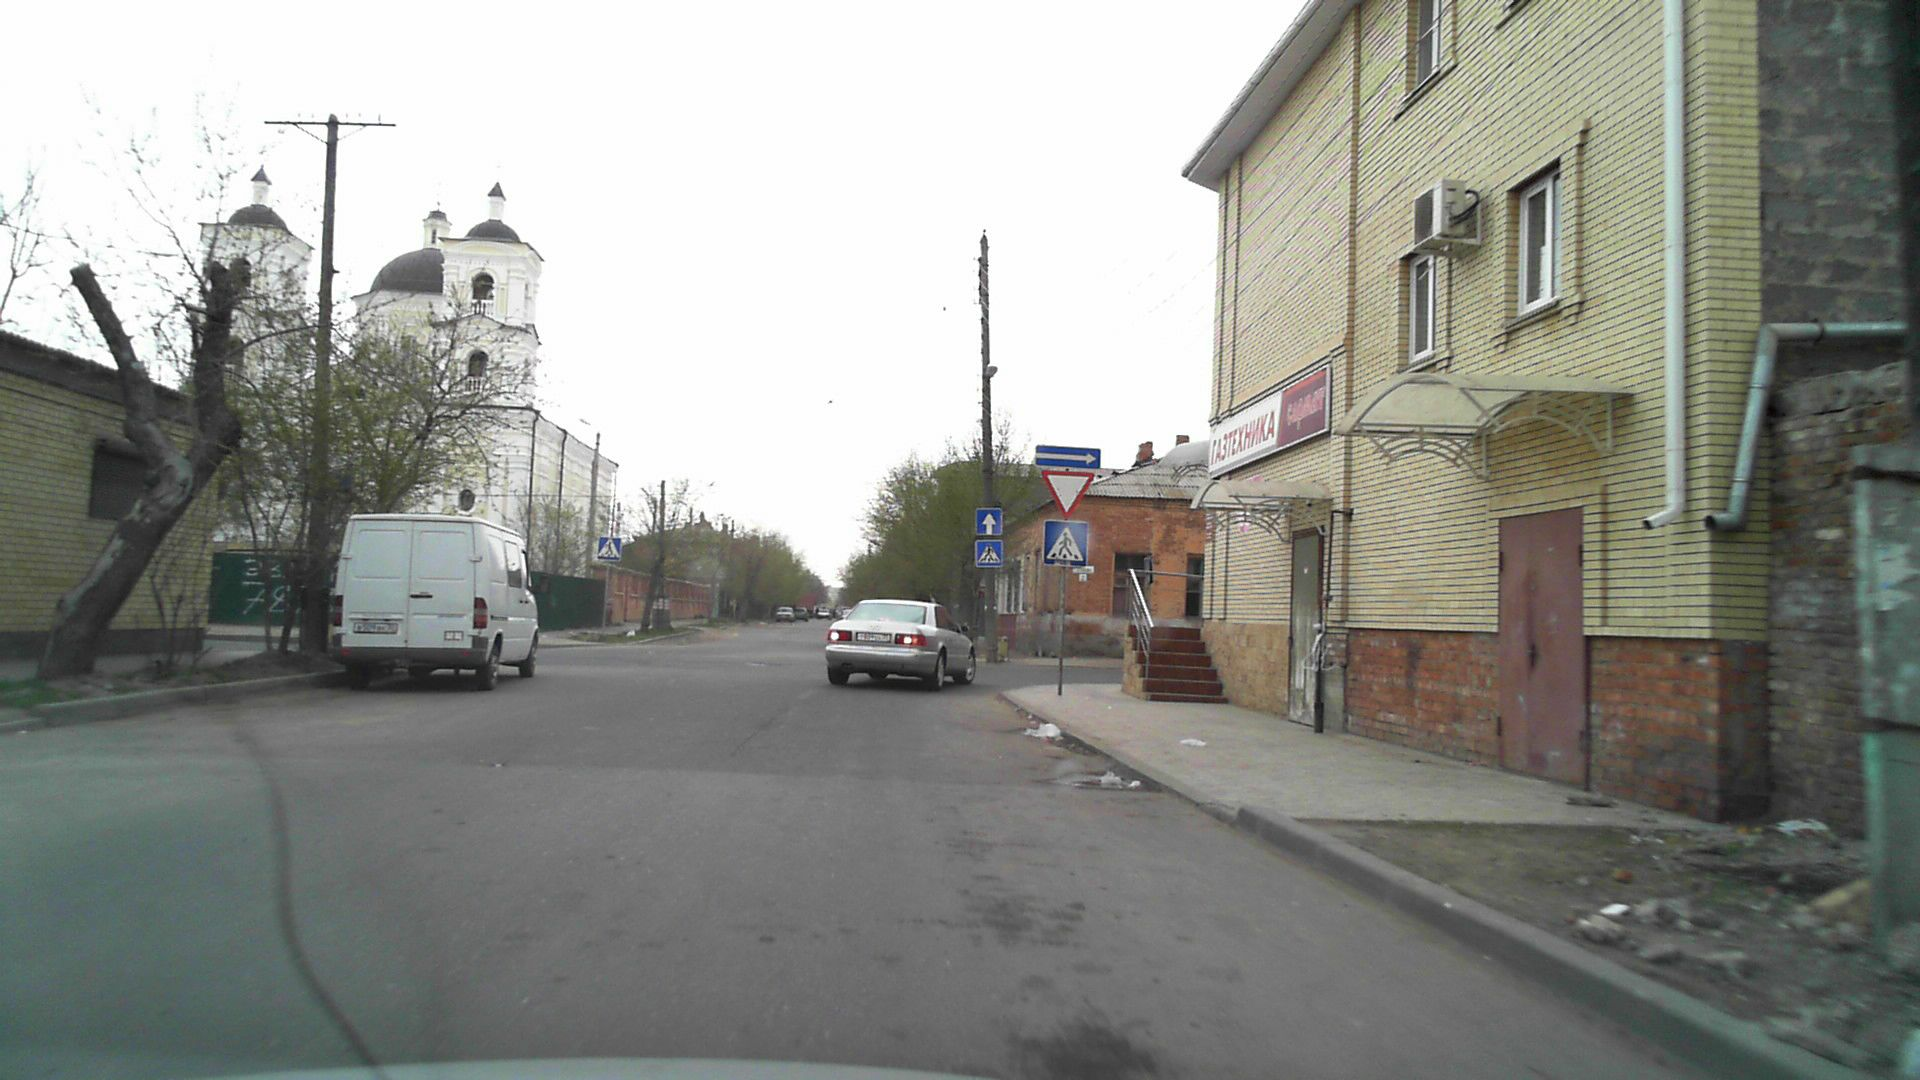One-Way Traffic: (1035, 444, 1101, 469)
Pedestrian Crossing: (1044, 521, 1087, 564)
